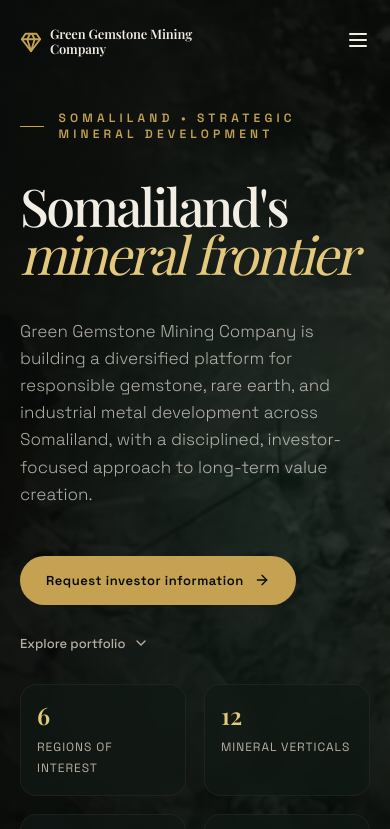
Scenario: App › toggles the mobile menu with correct aria state
Click the button named "Open menu" at (358, 42), box [346, 28, 370, 56]
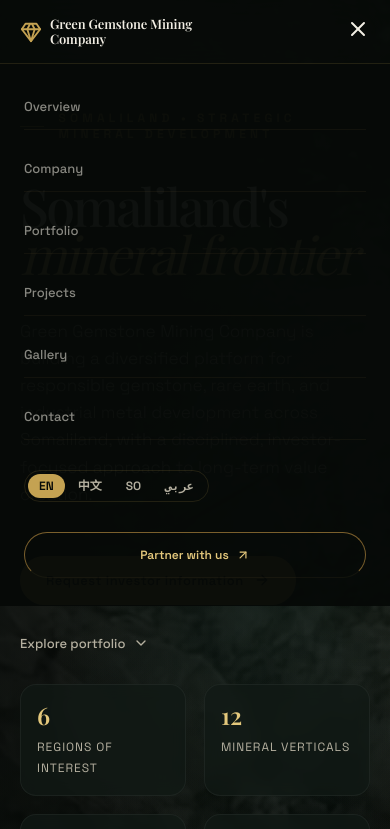
Now the button named "Close menu" is expanded, box [346, 17, 370, 46]
